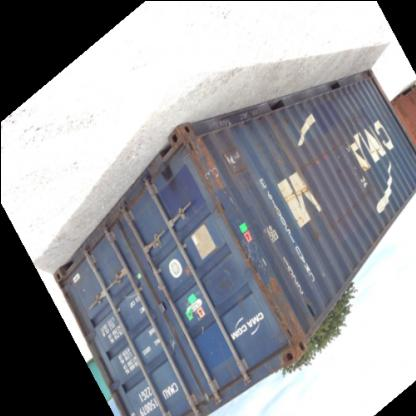Damage: (238, 212, 301, 374), (187, 122, 245, 202), (322, 183, 378, 239), (292, 129, 352, 176), (320, 79, 366, 109), (282, 182, 318, 206), (158, 156, 180, 194), (364, 144, 386, 160), (194, 315, 207, 339), (168, 336, 180, 356), (254, 106, 263, 132)
